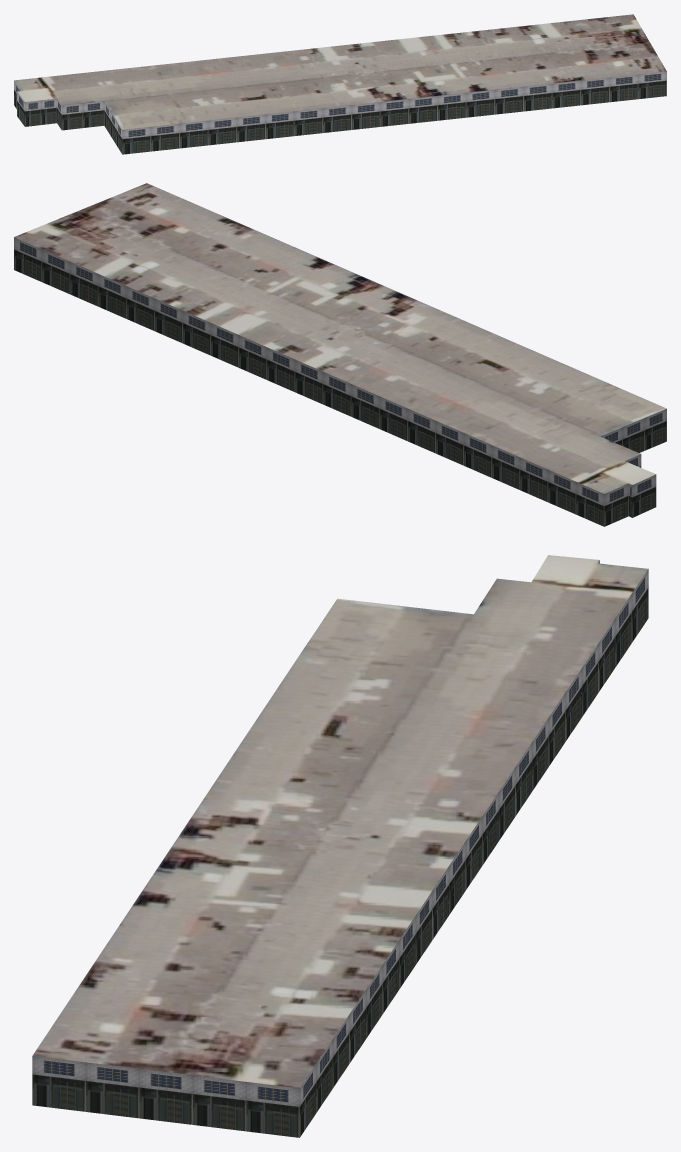
Rendered from T_1T41A4NUKU.dae.
3 views of the same model, one above another, from view 1: azimuth 30°, elevation 25°; view 2: azimuth 150°, elevation 25°; view 3: azimuth 270°, elevation 25° (orthographic). The views are drawn at different scales.
Visible parts, largest first — view 1: SketchUp (×8); view 2: SketchUp (×7); view 3: SketchUp (×5).
Part boxes in pixels (box(x1,y1,x2,y2)): SketchUp (×8): box(14, 14, 666, 154); SketchUp (×7): box(14, 183, 666, 526); SketchUp (×5): box(32, 555, 648, 1137).
Size of the model in its own units: 122 by 59.42 by 5.28.
Materials: 3 (3 with a texture image).
